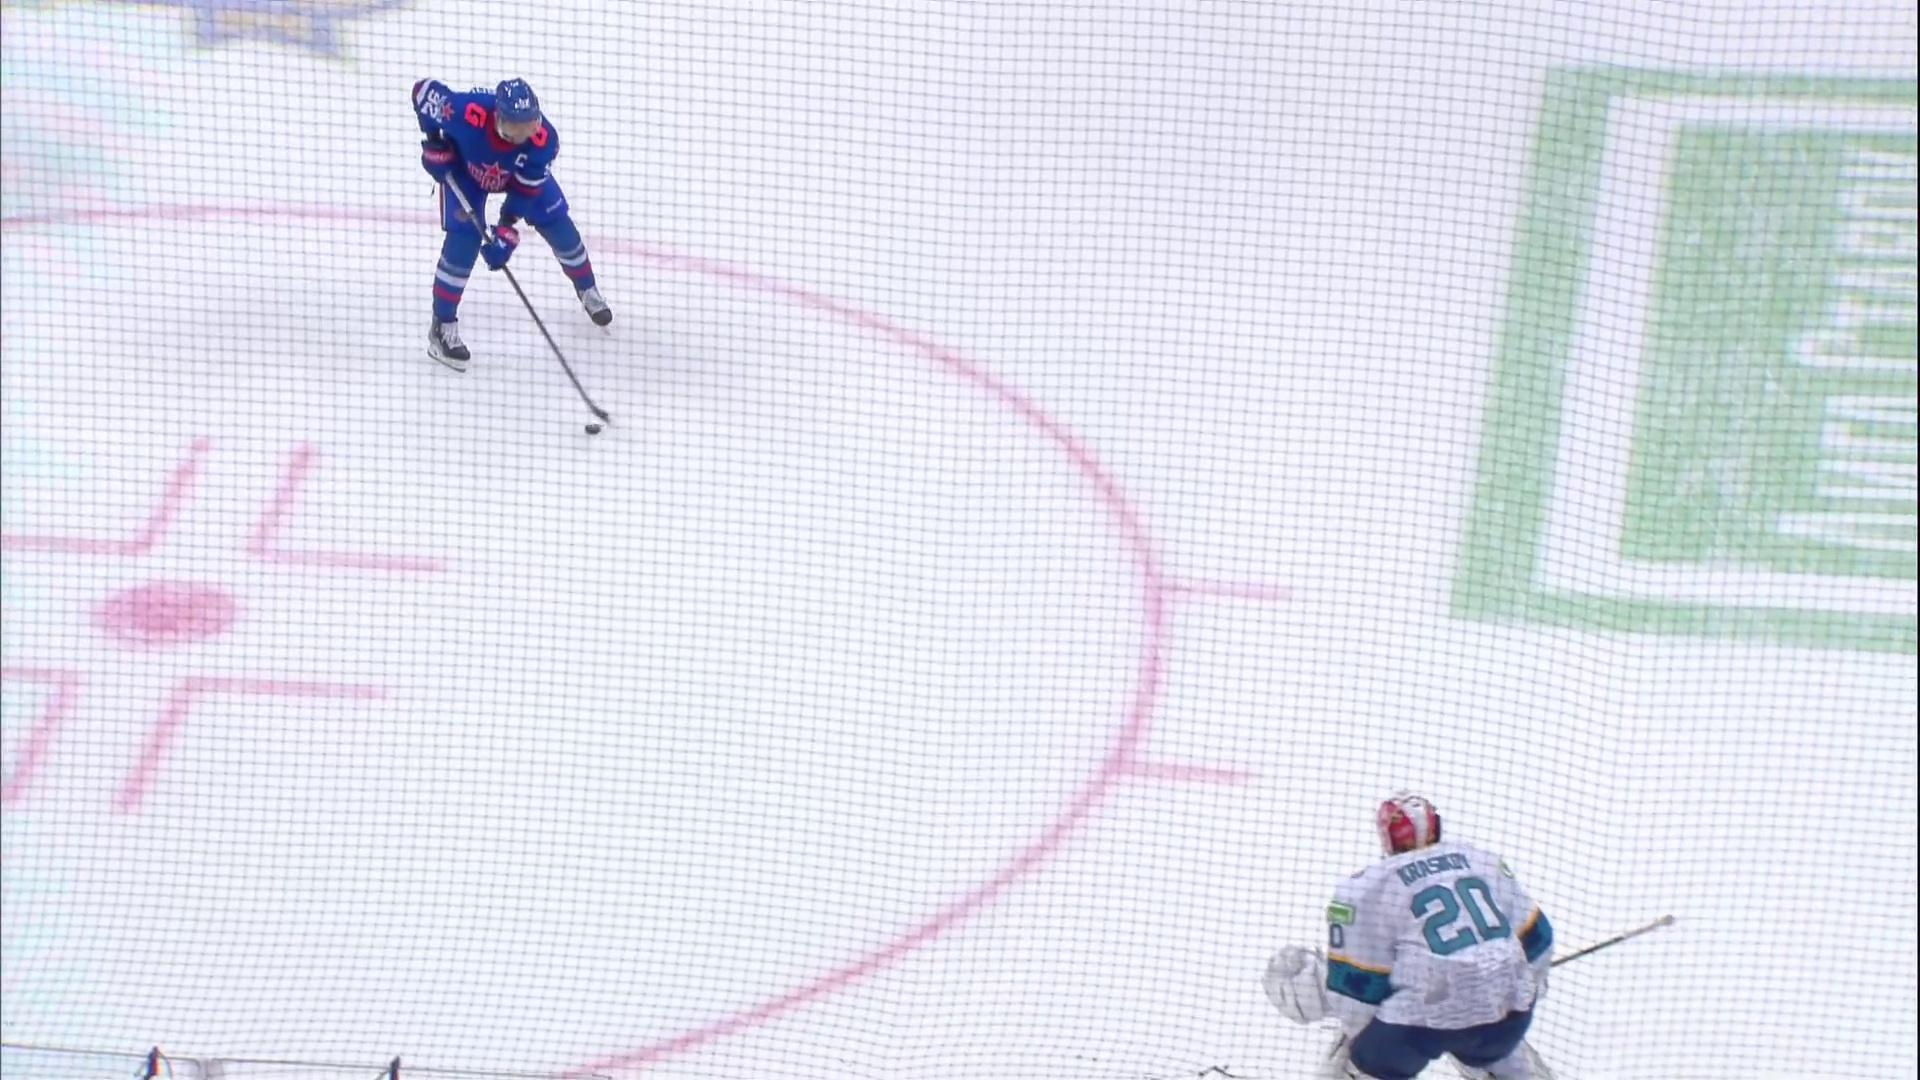ball: (585, 425, 601, 435)
